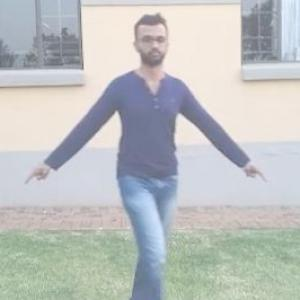land: (55, 24, 237, 292)
